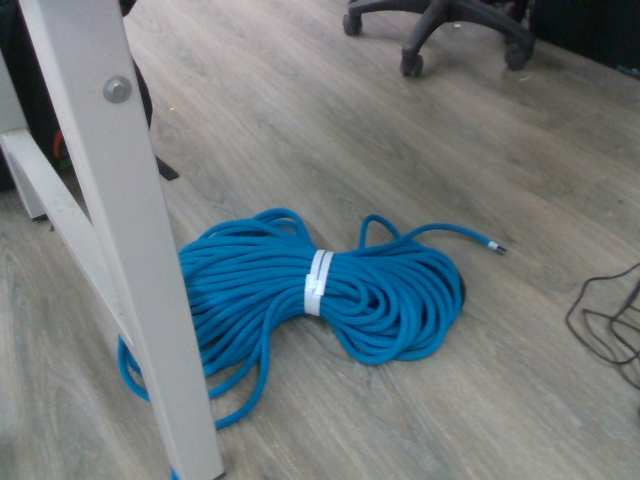rope: (103, 201, 523, 431)
